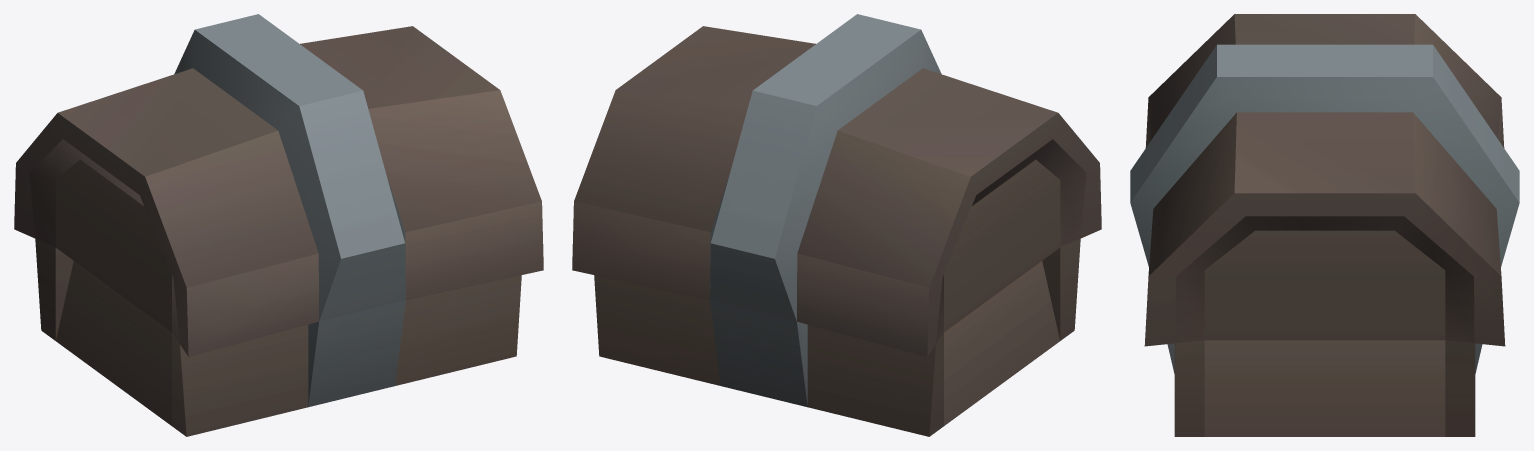
Rendered from trunk_medium_b.glb.
3 views of the same model, side by side, from view 1: azimuth 30°, elevation 25°; view 2: azimuth 150°, elevation 25°; view 3: azimuth 270°, elevation 25° (orthographic). The views are drawn at different scales.
Parts seen in each view (by area): view 1: trunk_medium_B; view 2: trunk_medium_B; view 3: trunk_medium_B.
Part boxes in pixels (<box>): trunk_medium_B: <box>14,14,543,436</box>; trunk_medium_B: <box>572,14,1101,436</box>; trunk_medium_B: <box>1130,14,1519,436</box>.
Size of the model in its own units: 0.953 by 0.7265 by 0.8751.
1 material, 1 textured.
